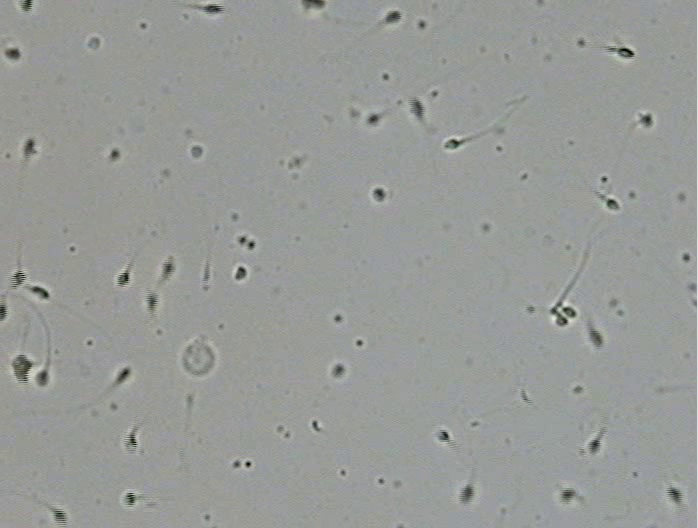Impurity: (182, 343, 216, 376), (87, 36, 100, 50)
S: (10, 355, 31, 383), (665, 486, 683, 506), (29, 285, 50, 302), (10, 271, 27, 290), (408, 98, 425, 117), (123, 432, 138, 453), (589, 328, 604, 348), (160, 260, 175, 279), (459, 485, 474, 504), (203, 3, 226, 15), (145, 291, 159, 310), (560, 487, 576, 503), (116, 367, 131, 384), (53, 509, 68, 526), (22, 138, 35, 157), (615, 47, 635, 59), (116, 271, 130, 288), (384, 10, 401, 24), (3, 47, 21, 60), (301, 1, 326, 10), (587, 438, 601, 454), (35, 370, 48, 386), (122, 493, 136, 507), (372, 188, 386, 202), (190, 145, 204, 158), (606, 198, 620, 211), (235, 266, 247, 281), (562, 306, 577, 318), (331, 364, 344, 377), (436, 430, 450, 442), (18, 1, 33, 12), (640, 114, 652, 127), (444, 139, 459, 149), (109, 148, 120, 159), (556, 316, 568, 326), (367, 114, 378, 124), (1, 305, 6, 319)
